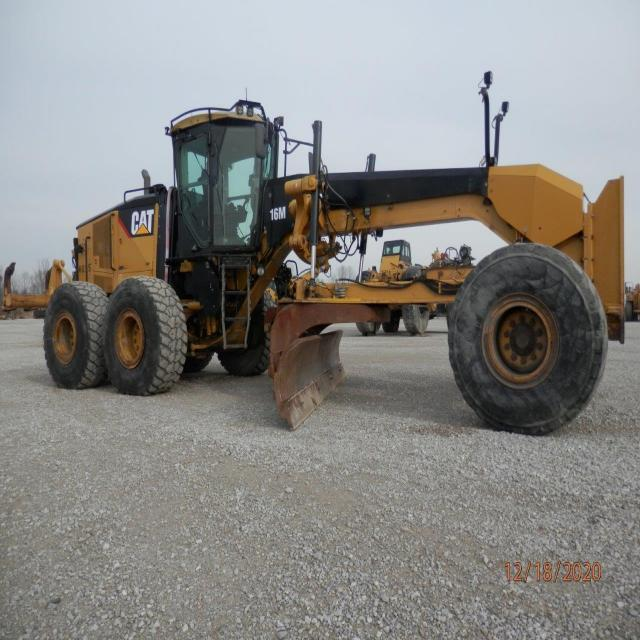Grader: (39, 100, 638, 463)
